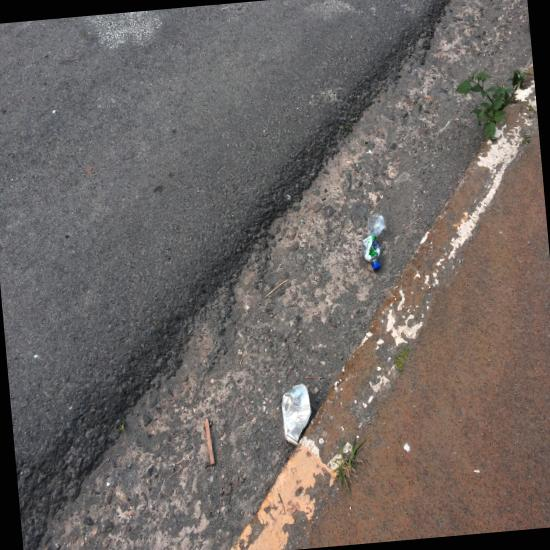Aluminium foil: (282, 383, 311, 446)
Clear plastic bottle: (362, 213, 386, 270)
Plastic bottle cap: (372, 262, 381, 270)
